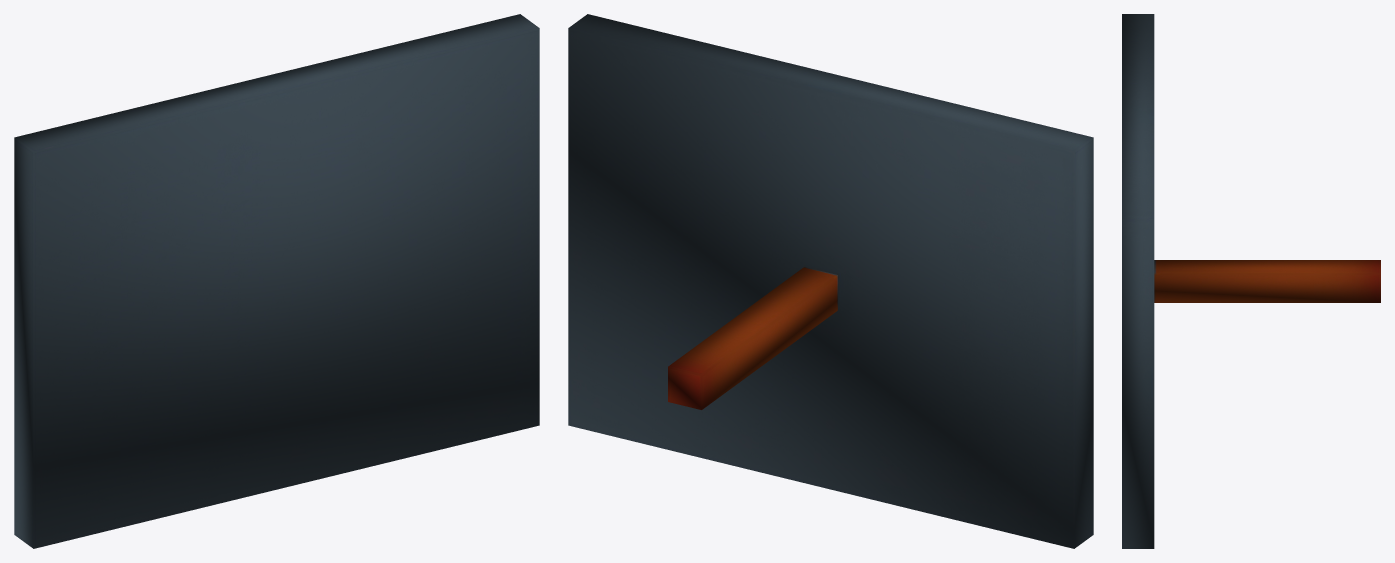
The model's file is yard-safety-mirror-body-tripo-original.glb.
3 renders of one model, left to right at view 1: azimuth 30°, elevation 25°; view 2: azimuth 150°, elevation 25°; view 3: azimuth 270°, elevation 25°, orthographic. The views are drawn at different scales.
Visible parts, largest first — view 1: Authored_surface_011; view 2: Authored_surface_011; view 3: Authored_surface_011.
Boxes of the visible parts, x1=… form: Authored_surface_011: x1=14, y1=14, x2=539, y2=548; Authored_surface_011: x1=568, y1=14, x2=1093, y2=548; Authored_surface_011: x1=1122, y1=14, x2=1380, y2=548.
Bounding box in the file's own units: 1 × 0.75 × 0.5333.
Materials: 1 (1 with a texture image).
